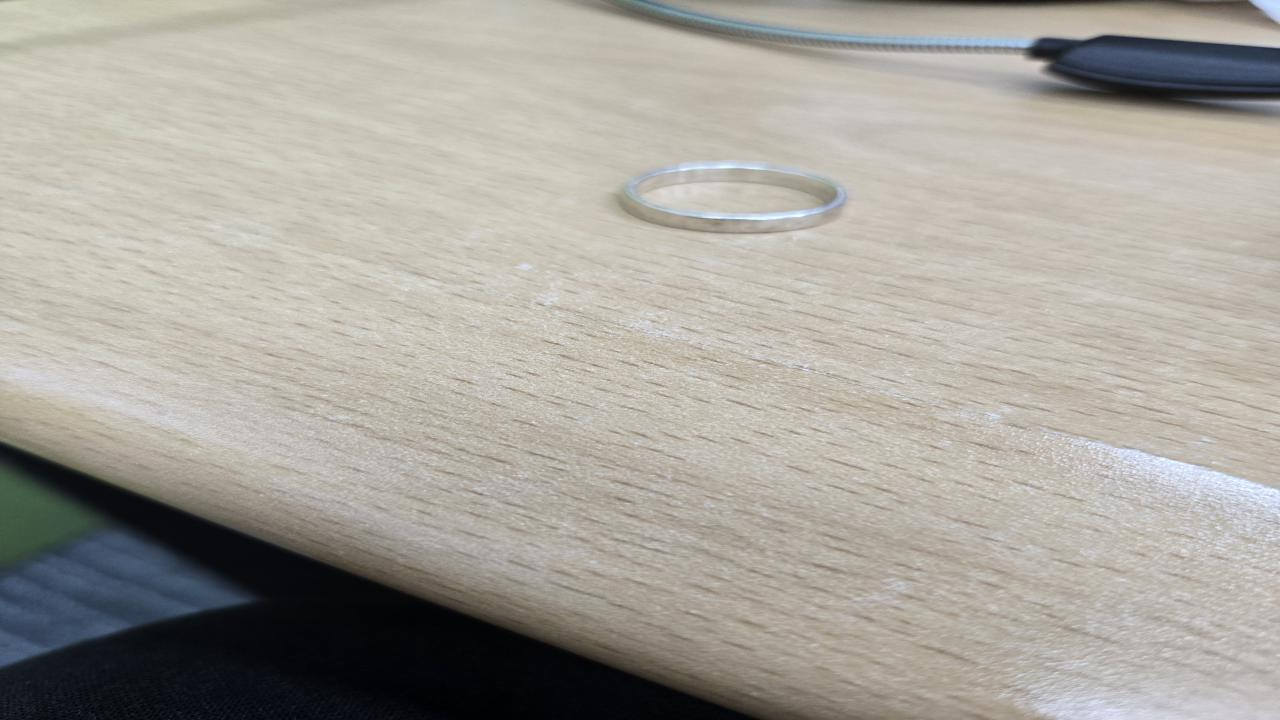ring: (616, 163, 850, 234)
